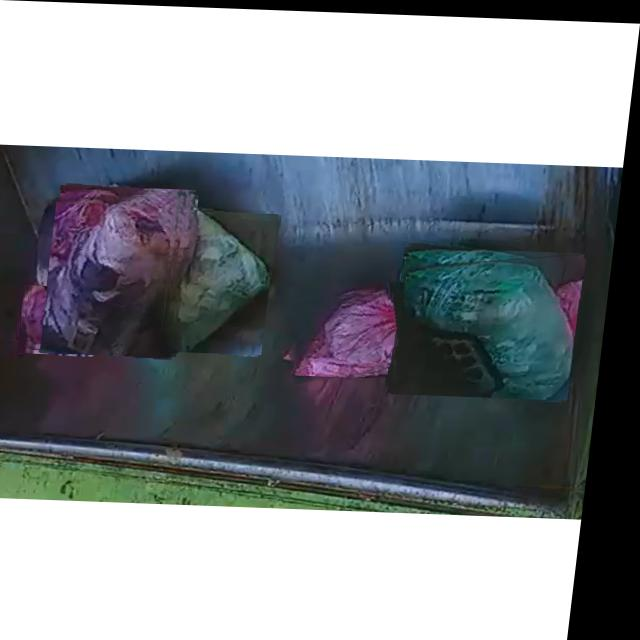general_trashbag: (410, 254, 581, 395), (170, 207, 277, 350)
other_trashbag: (52, 192, 192, 354), (301, 290, 433, 375), (31, 286, 108, 349)
